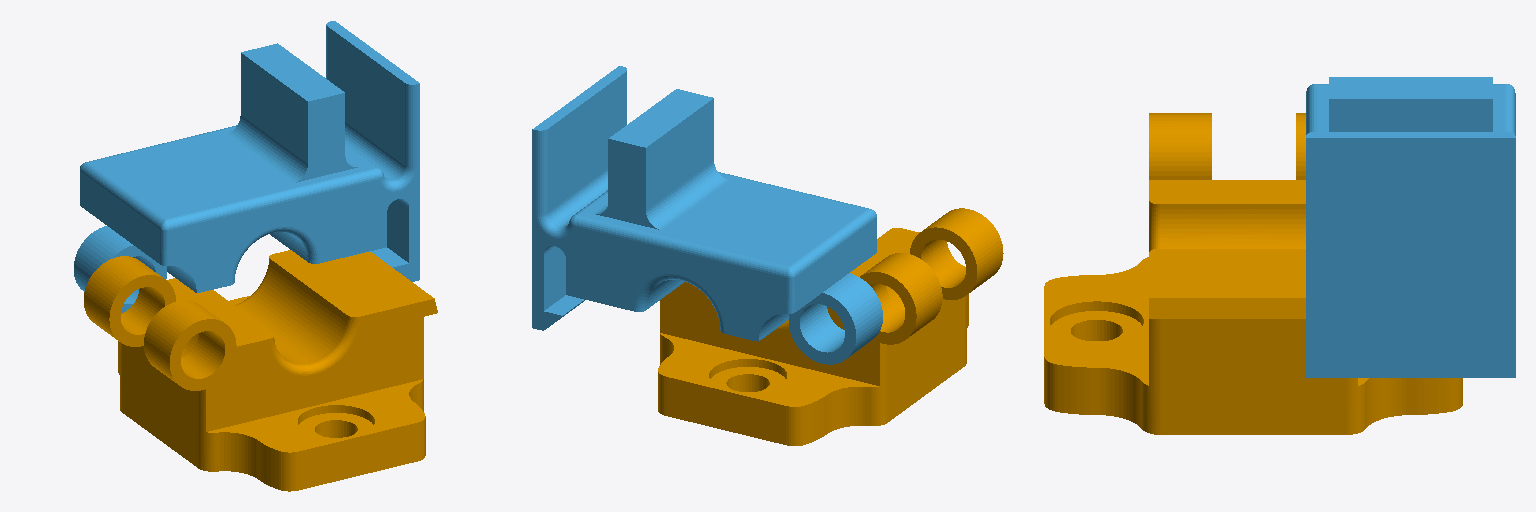
The robot description file, URDF, robot "test":
<?xml version="1.0" ?>
<!-- =================================================================================== -->
<!-- |    This document was autogenerated by xacro from [local-path]/src/nist_description/boards/routing.xacro | -->
<!-- |    EDITING THIS FILE BY HAND IS NOT RECOMMENDED                                 | -->
<!-- =================================================================================== -->
<robot name="test">
  <!-- Define the hand_tcp frame -->
  <link name="clip_complex_base_0">
    <visual>
      <geometry>
        <mesh filename="package://nist_description/models/clip_ethernet_orizzontale_base_scaled.stl"/>
      </geometry>
    </visual>
    <!-- <collision>
        <origin xyz="0 0 -5.5e-3" rpy="0 0 0" />
        <geometry>
            <cylinder length="11e-3" radius="40e-3"/>
        </geometry>
      </collision> -->
  </link>
  <link name="clip_complex_0">
    <visual>
      <geometry>
        <mesh filename="package://nist_description/models/clip_ethernet_orizzontale_top_scaled.stl"/>
      </geometry>
    </visual>
    <!-- <collision>
        <origin xyz="0 0 -5.5e-3" rpy="0 0 0" />
        <geometry>
            <cylinder length="11e-3" radius="40e-3"/>
        </geometry>
      </collision> -->
  </link>
  <joint name="BTT_clip_complex_base_0" type="revolute">
    <parent link="clip_complex_base_0"/>
    <child link="clip_complex_0"/>
    <origin rpy="0 0 0" xyz="-0.0117 0 0.015"/>
    <limit effort="1000" lower="0" upper="-3.141592653589793" velocity="6.28"/>
  </joint>
</robot>

--- Facts derived from the render (not from the file) ---
Views: 3 orthographic renders of the robot side by side, from view 1: azimuth 30°, elevation 25°; view 2: azimuth 150°, elevation 25°; view 3: azimuth 270°, elevation 25°.
Model test with 2 links and 1 joints (1 revolute), rooted at clip_complex_base_0, posed every joint at zero.
Visible links, largest first — view 1: clip_complex_base_0, clip_complex_0; view 2: clip_complex_0, clip_complex_base_0; view 3: clip_complex_base_0, clip_complex_0.
Link boxes in pixels (box(x1,y1,x2,y2)): clip_complex_base_0: box(84, 250, 437, 491); clip_complex_0: box(74, 21, 419, 313); clip_complex_0: box(532, 66, 882, 364); clip_complex_base_0: box(658, 208, 1003, 445); clip_complex_base_0: box(1044, 113, 1462, 434); clip_complex_0: box(1306, 77, 1515, 377).
Bounding box of the posed robot: 0.0424 × 0.045 × 0.035 m (x, y, z).
2 mesh visuals loaded from 2 distinct referenced files (2 binary STL).